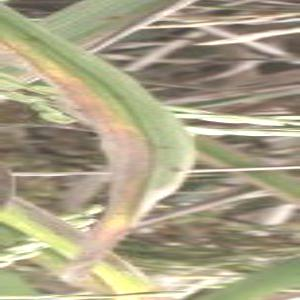2 BacterialBlight: (91, 65, 191, 225)
